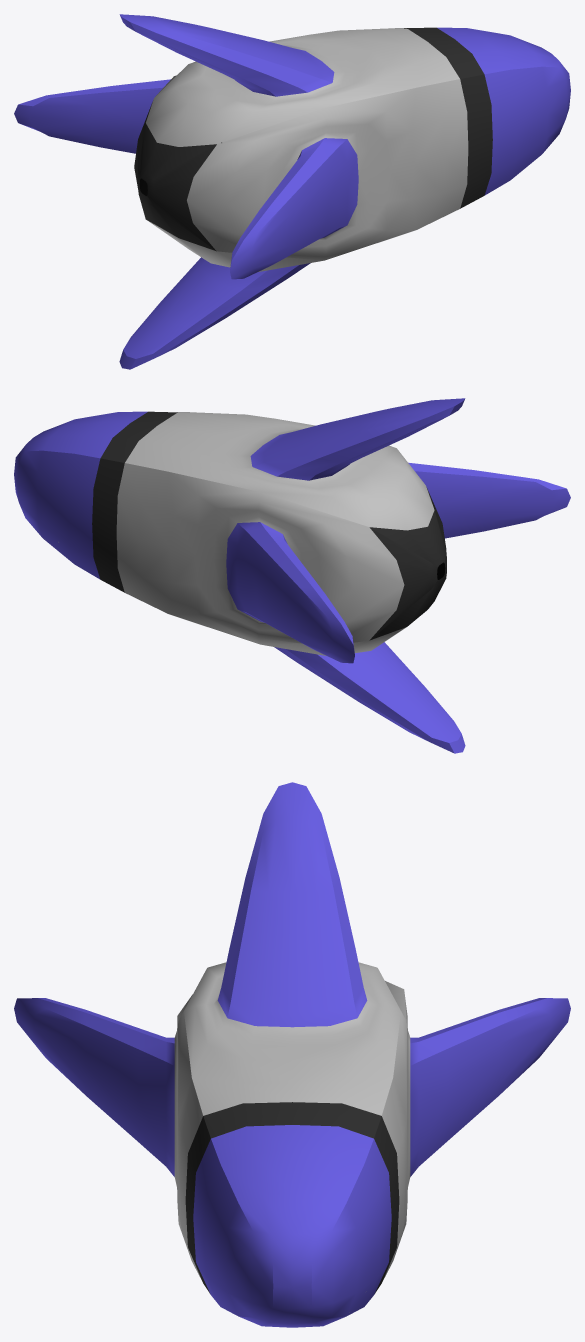
Rendered from playerBullet.obj.
3 renders of one model, top to bottom at view 1: azimuth 30°, elevation 25°; view 2: azimuth 150°, elevation 25°; view 3: azimuth 270°, elevation 25°, orthographic. The views are drawn at different scales.
Parts seen in each view (by area): view 1: 立方体.001; view 2: 立方体.001; view 3: 立方体.001.
Part boxes in pixels (x1,y1,x2,y2): 立方体.001: [14, 14, 570, 369]; 立方体.001: [14, 398, 570, 753]; 立方体.001: [14, 782, 570, 1327].
Bounding box in the file's own units: 2.29 × 1.73 × 1.93.
Materials: 1 (1 with a texture image).
